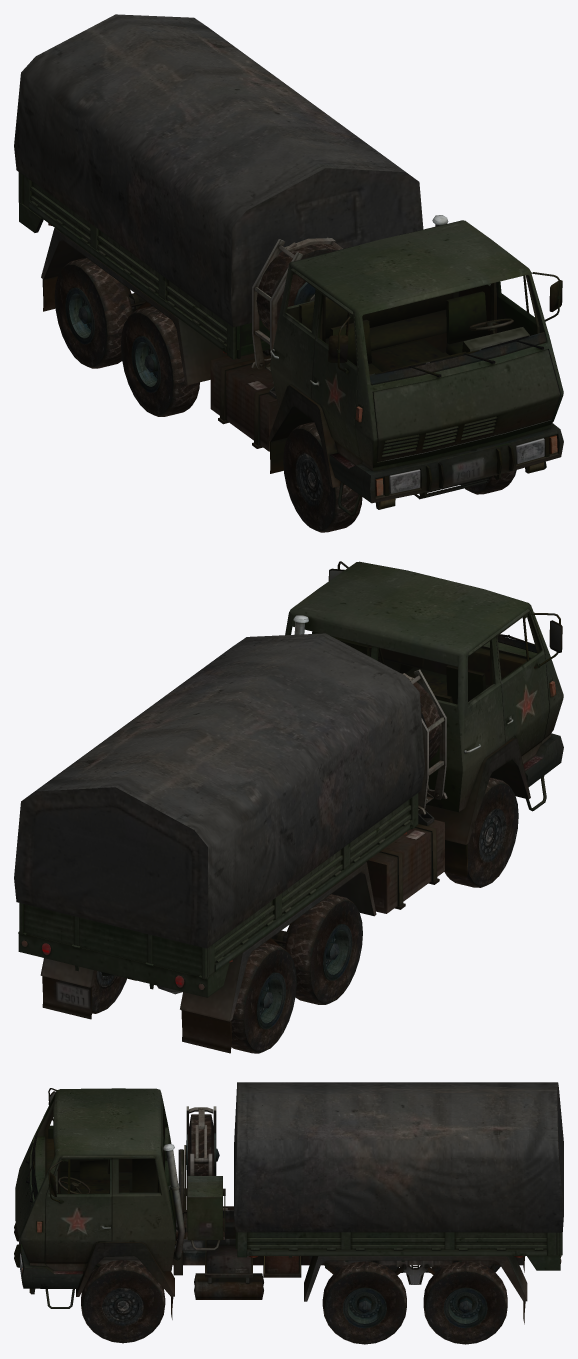
3 views of the same model, one above another, from view 1: azimuth 30°, elevation 25°; view 2: azimuth 150°, elevation 25°; view 3: azimuth 270°, elevation 25° (orthographic). The views are drawn at different scales.
Parts seen in each view (by area): view 1: SX2190 Cargo Track_0; view 2: SX2190 Cargo Track_0; view 3: SX2190 Cargo Track_0.
Part boxes in pixels (x1,y1,x2,y2): SX2190 Cargo Track_0: [14, 14, 563, 532]; SX2190 Cargo Track_0: [14, 561, 563, 1053]; SX2190 Cargo Track_0: [14, 1082, 563, 1344].
Size of the model in its own units: 184 by 215 by 494.
Materials: 1 (1 with a texture image).
